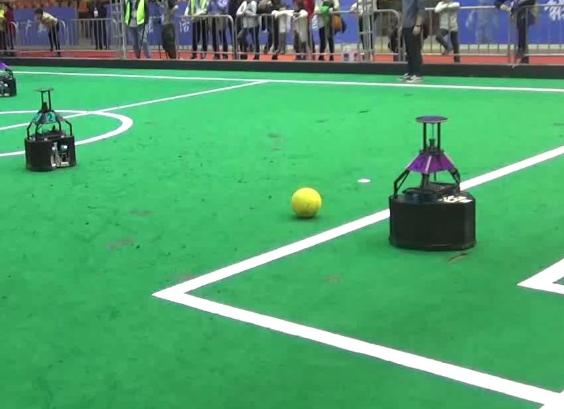robot: (388, 111, 482, 253), (20, 84, 83, 173)
